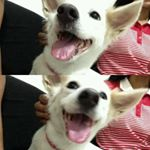puppy: (43, 76, 146, 150), (40, 1, 140, 73)
